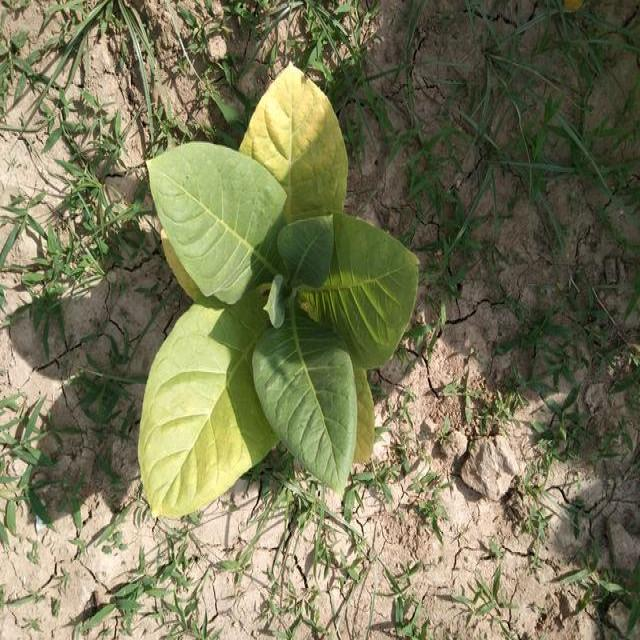crop: (134, 55, 418, 520)
